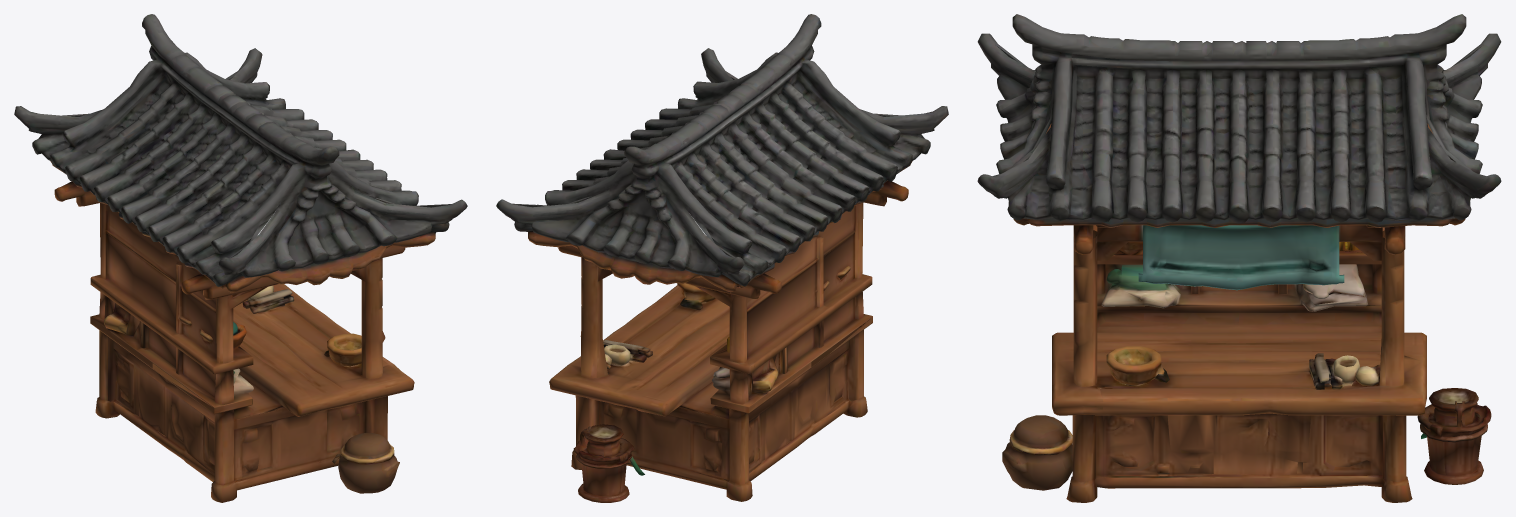
File: market_stall.glb
3 views of the same model, side by side, from view 1: azimuth 30°, elevation 25°; view 2: azimuth 150°, elevation 25°; view 3: azimuth 270°, elevation 25° (orthographic). The views are drawn at different scales.
Parts seen in each view (by area): view 1: tripo_node_99f3835c-2434-428c-91a4-af278c948c24; view 2: tripo_node_99f3835c-2434-428c-91a4-af278c948c24; view 3: tripo_node_99f3835c-2434-428c-91a4-af278c948c24.
Boxes of the visible parts, x1,y1,x2,y2 form: tripo_node_99f3835c-2434-428c-91a4-af278c948c24: [14, 14, 467, 502]; tripo_node_99f3835c-2434-428c-91a4-af278c948c24: [496, 14, 948, 502]; tripo_node_99f3835c-2434-428c-91a4-af278c948c24: [977, 14, 1501, 502].
Size of the model in its own units: 0.6654 by 0.9139 by 0.9922.
1 material, 1 textured.
